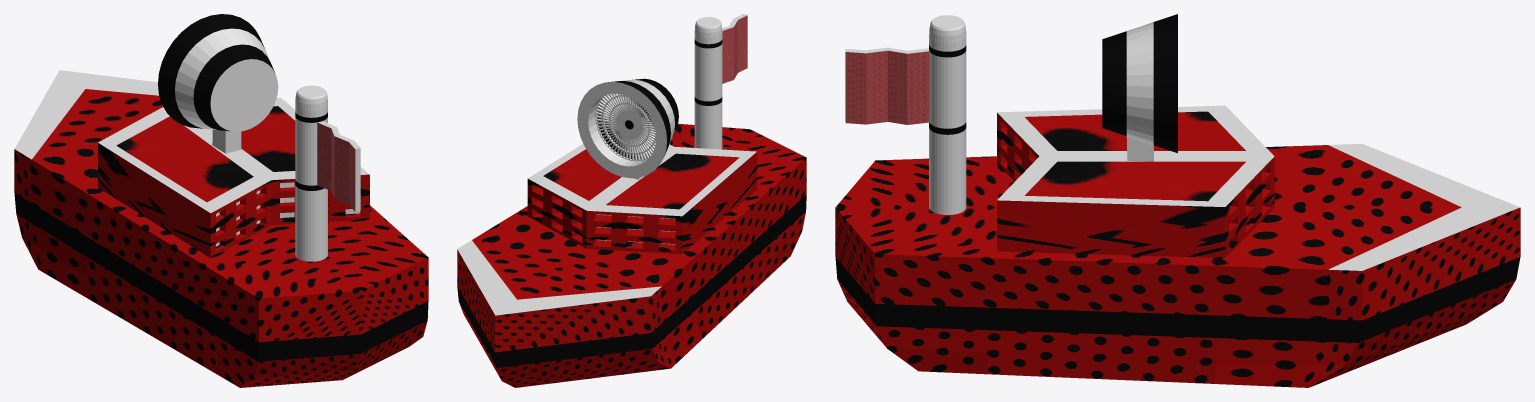
Rendered from RED_Flagship.fbx.
The picture shows the model from 3 angles, left to right: view 1: azimuth 30°, elevation 25°; view 2: azimuth 150°, elevation 25°; view 3: azimuth 270°, elevation 25°; orthographic projection. The views are drawn at different scales.
Visible parts, largest first — view 1: Cube, Cylinder, Cylinder.001; view 2: Cube, Cylinder, Cylinder.001; view 3: Cube, Cylinder.001, Cylinder.
Boxes of the visible parts, x1=… form: Cube: x1=14, y1=70, x2=428, y2=387; Cylinder: x1=158, y1=14, x2=278, y2=153; Cylinder.001: x1=295, y1=85, x2=360, y2=261; Cube: x1=457, y1=123, x2=806, y2=387; Cylinder: x1=577, y1=78, x2=678, y2=179; Cylinder.001: x1=694, y1=14, x2=747, y2=149; Cube: x1=835, y1=105, x2=1520, y2=387; Cylinder.001: x1=845, y1=15, x2=966, y2=214; Cylinder: x1=1102, y1=14, x2=1177, y2=161.
Bounding box in the file's own units: 510 × 569 × 1160.
